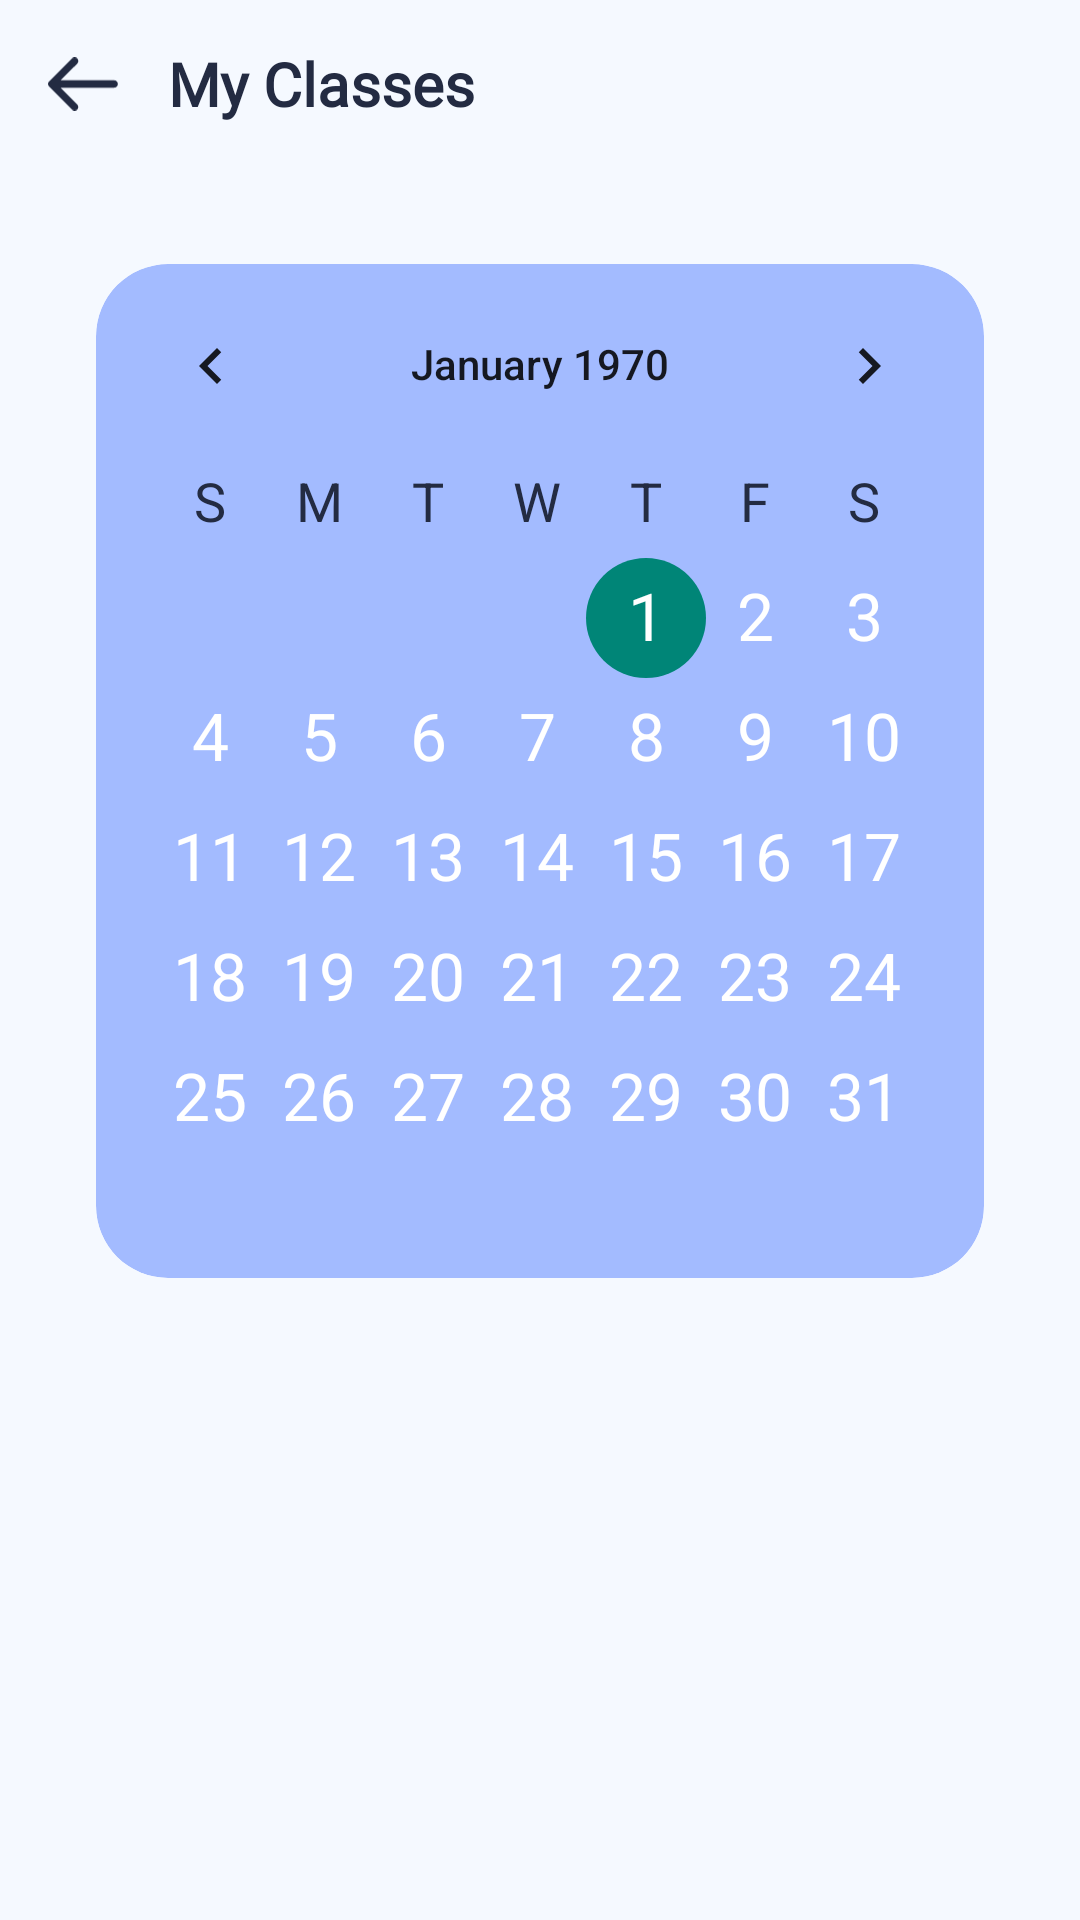

Locate icon controls on the screen. Image size 1080 x 1920, boxes as (x1, y1, x2, y2).
Back: (48, 57, 118, 111)
